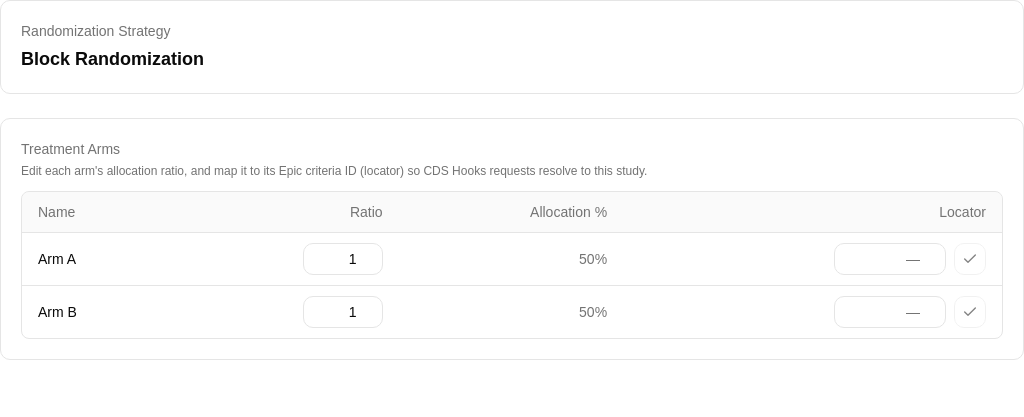
Test case: StudyConfigPage — editable ratios › recomputes allocation percentages from the edited ratios
Expected: the heading "Treatment Arms" is shown, [21,141,120,157]
Replace the text in the number field named "ratio for arm Arm A" with "3" at (343,259), box [303,243,383,275]
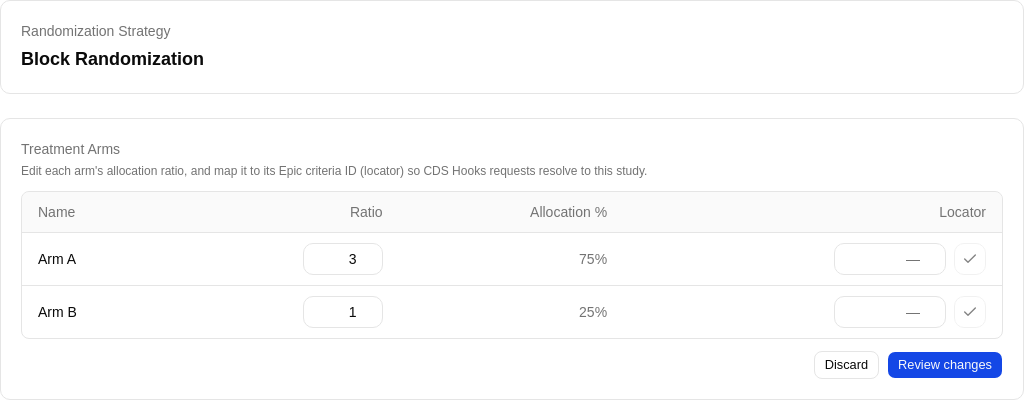
Expected: the text "75%" is shown, [399,232,623,286]
Expected: the text "25%" is shown, [399,286,623,338]
